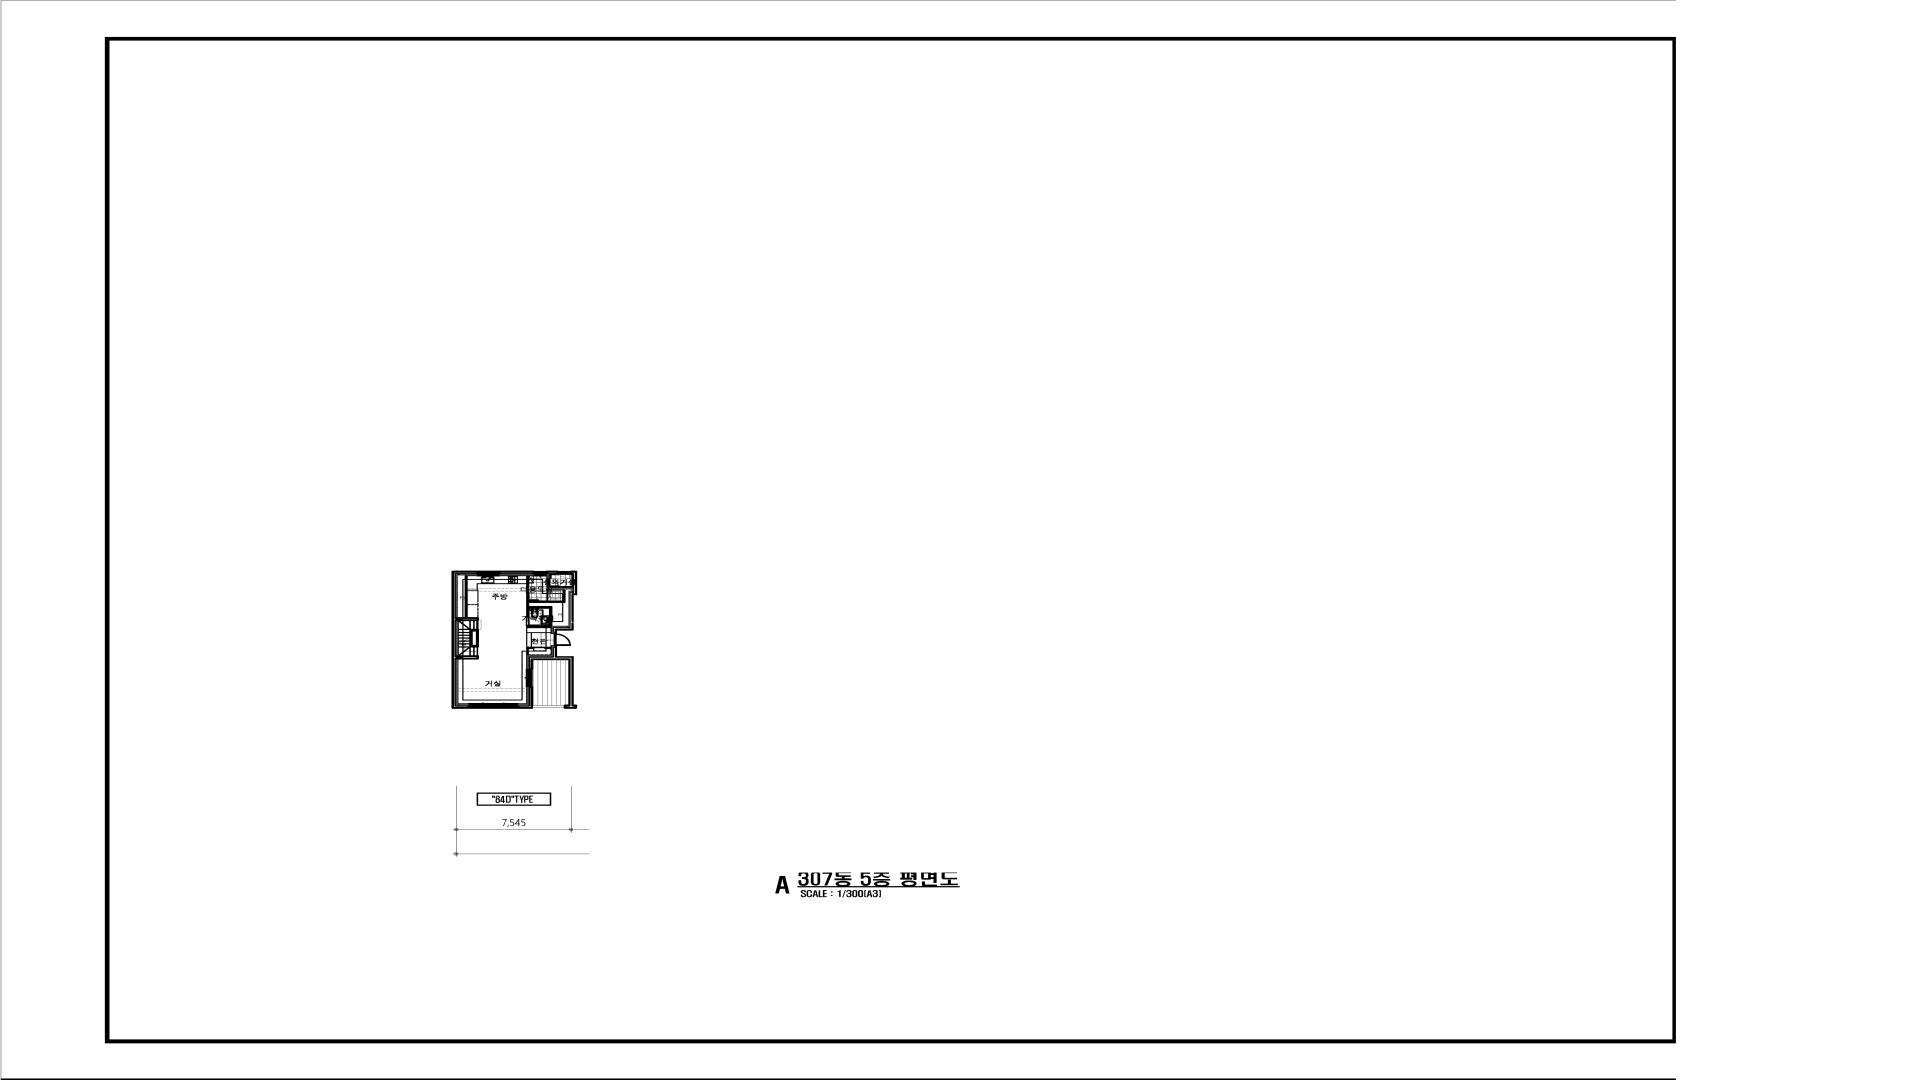background: (0, 0, 1920, 1080)
door: (554, 633, 571, 646), (526, 592, 539, 601), (526, 616, 539, 625), (547, 579, 560, 586), (534, 647, 545, 648), (547, 590, 548, 601)
wall: (451, 571, 479, 709), (526, 646, 577, 709), (526, 586, 572, 628), (551, 571, 577, 633), (518, 687, 533, 709), (469, 629, 479, 648), (500, 571, 534, 576), (465, 576, 468, 617), (546, 571, 558, 579), (526, 647, 534, 655), (526, 576, 530, 592), (545, 647, 551, 649)
window: (468, 703, 518, 709), (477, 571, 500, 577), (526, 669, 533, 687), (533, 705, 564, 708), (534, 571, 547, 576), (558, 571, 571, 575)
